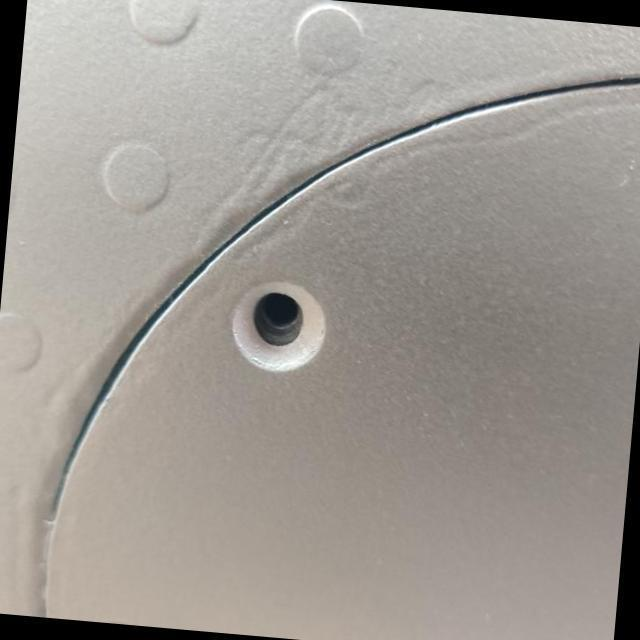Fastener Damage: (180, 220, 386, 433)
